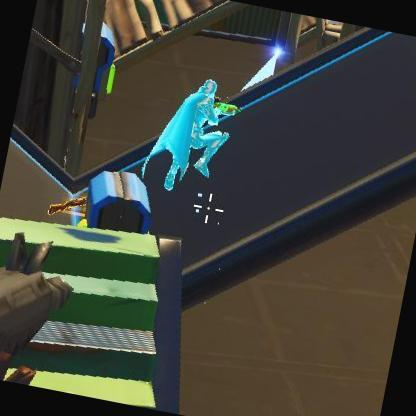person: (165, 80, 240, 173)
